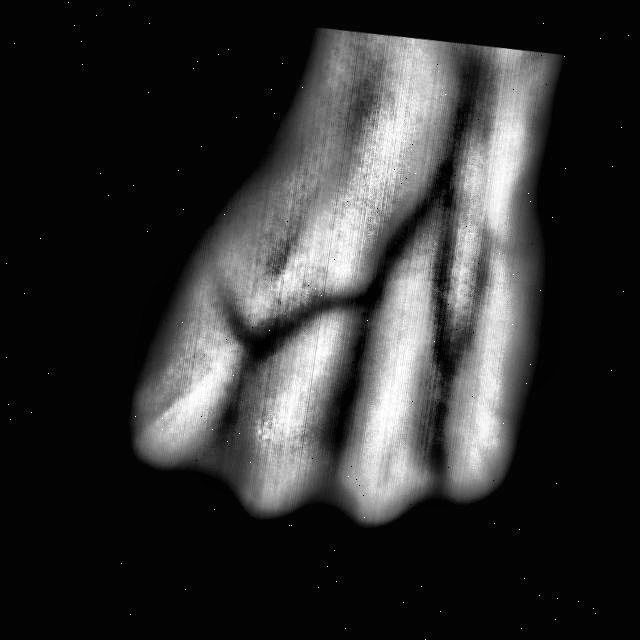Vein: (357, 132, 468, 300)
